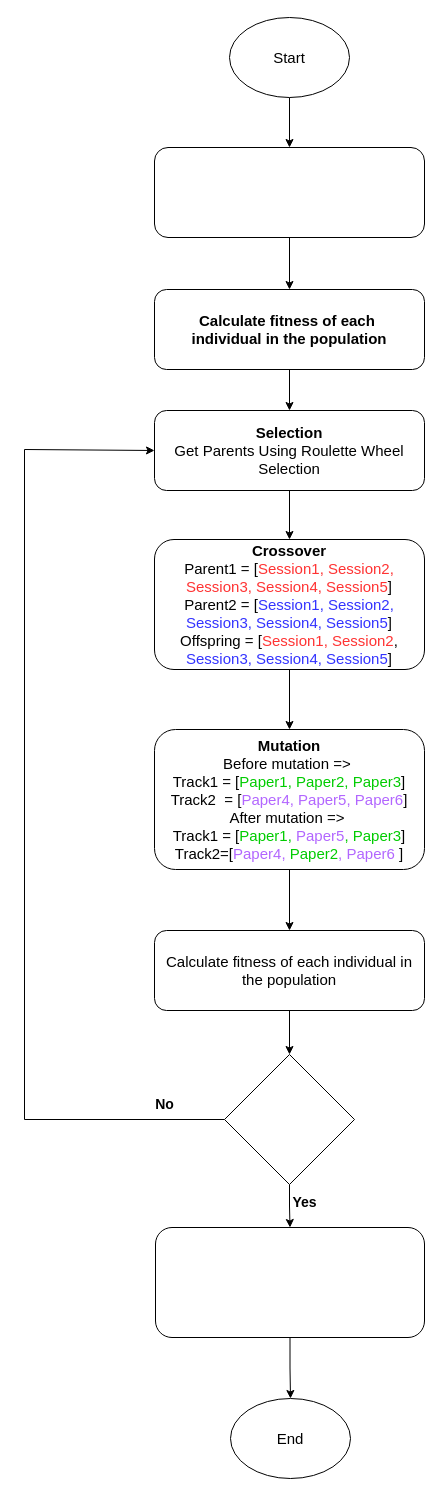
The diagram is 442 pixels wide and 1496 high, and some of its shapes have lost their labels. Here are the shapes that lost their labels. From the top down, the centre of each, then its label:
the point at 289,192: Generate Initial Population Population = [Schedule1, Schedule2,...]
the point at 289,1119: Stopping conditions apply?
the point at 289,1282: Choose the individual with highest fitness value
